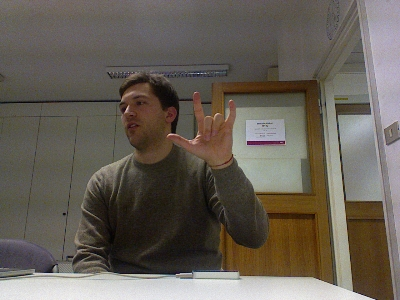我爱你: (166, 90, 237, 163)
